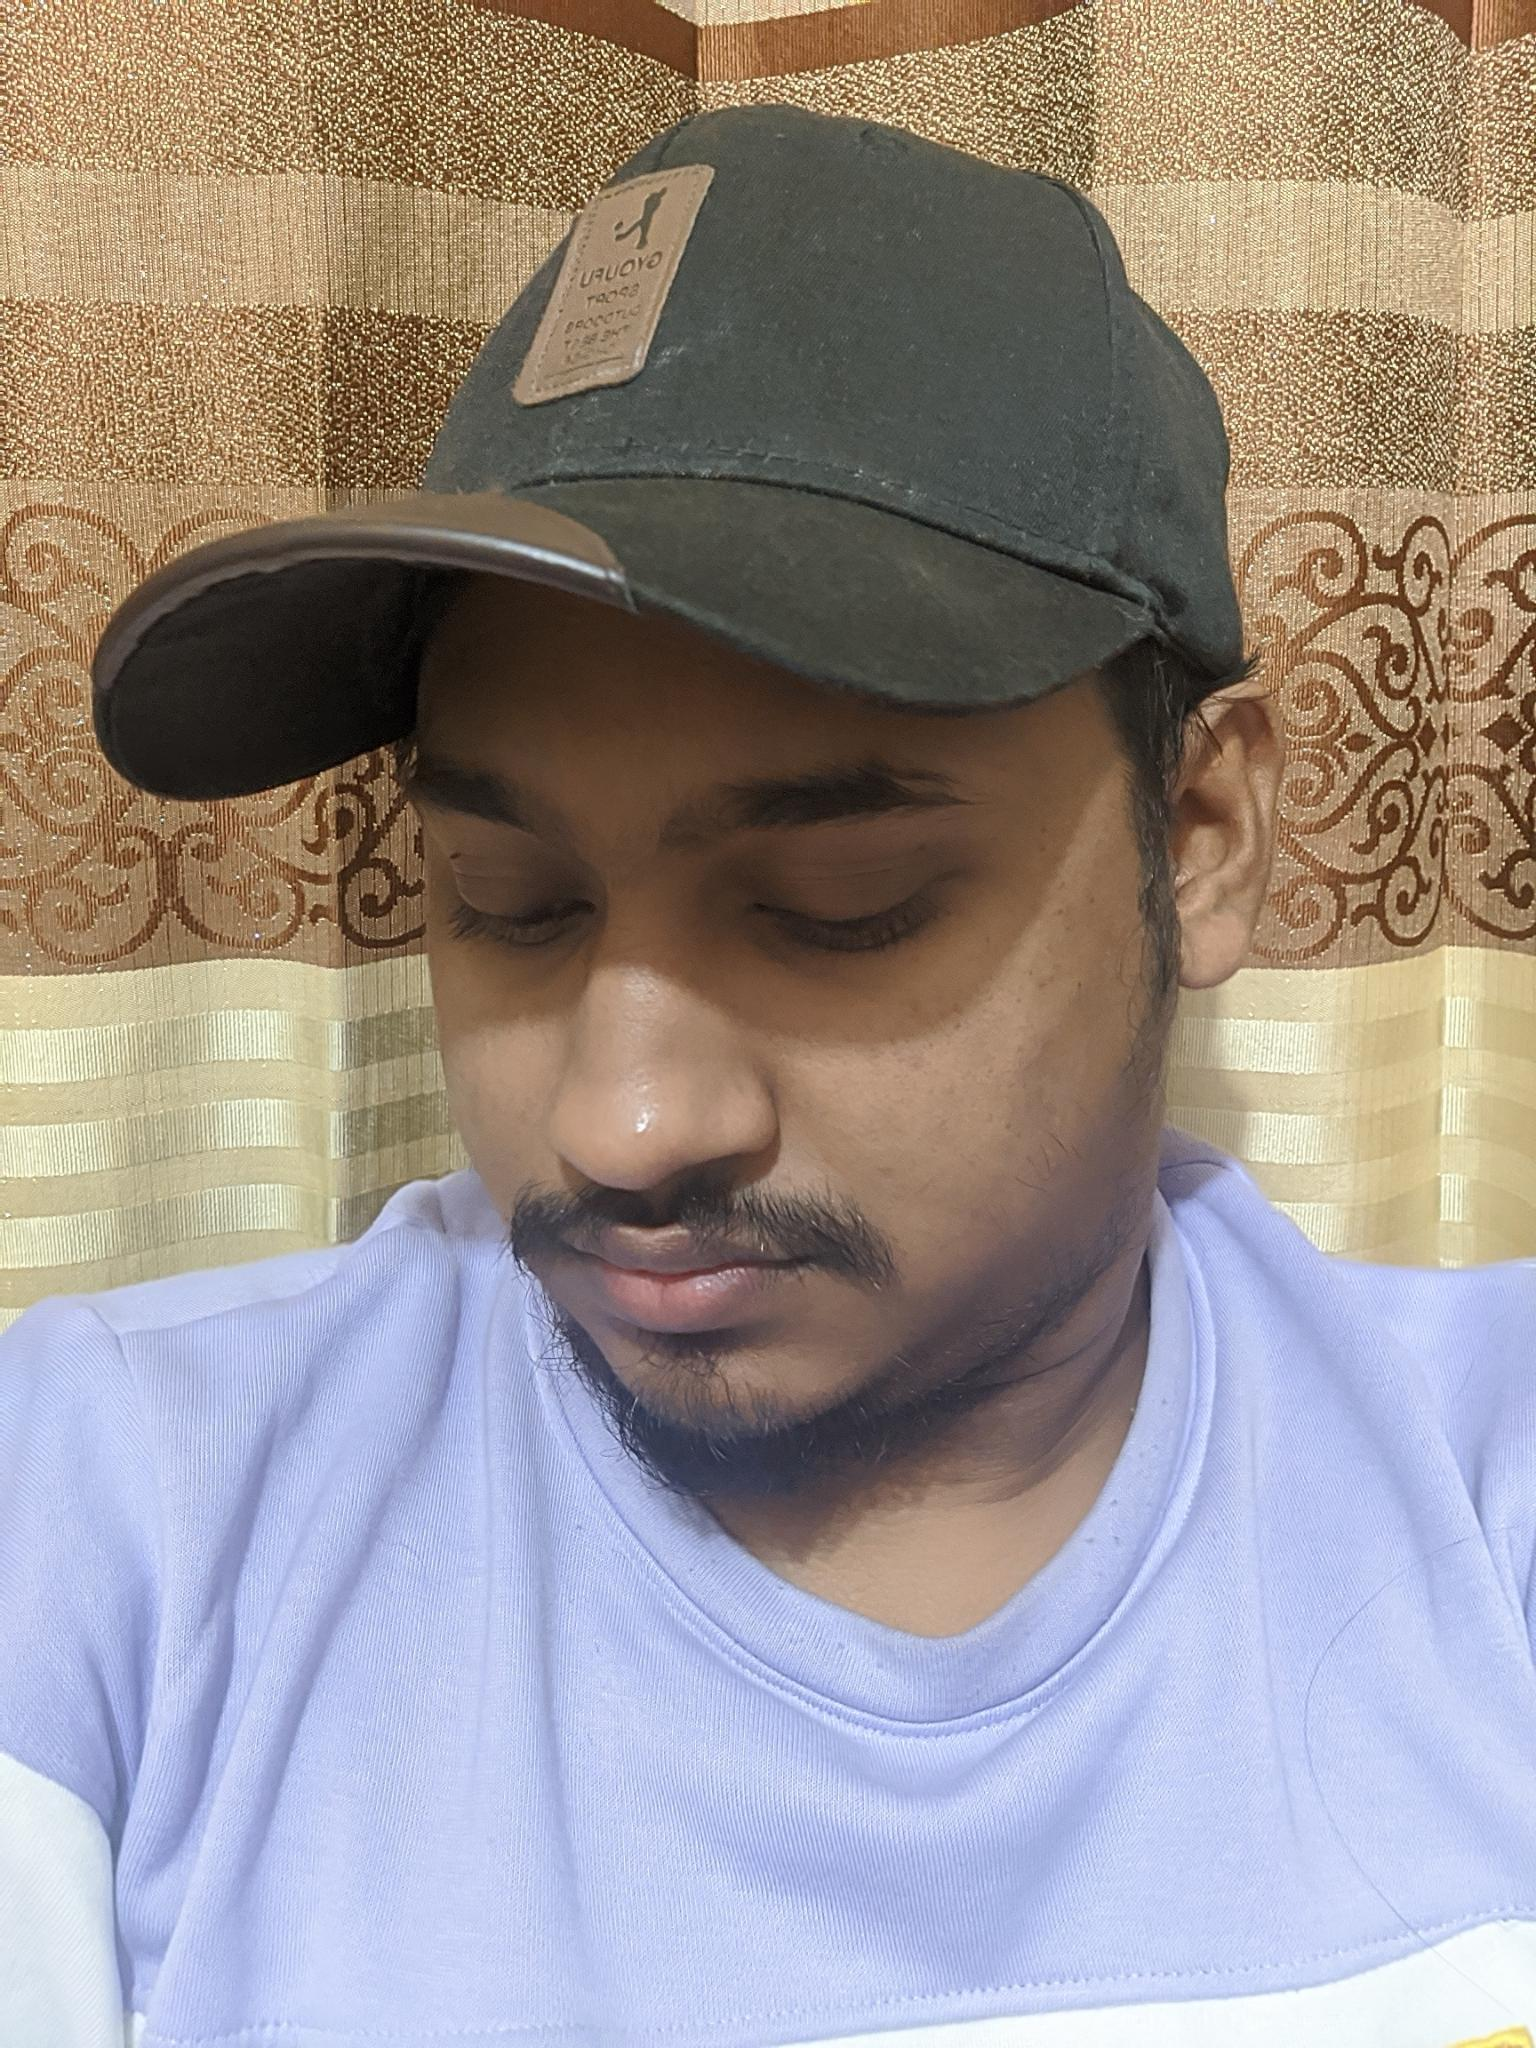Neutral: (339, 637, 1065, 1461)
